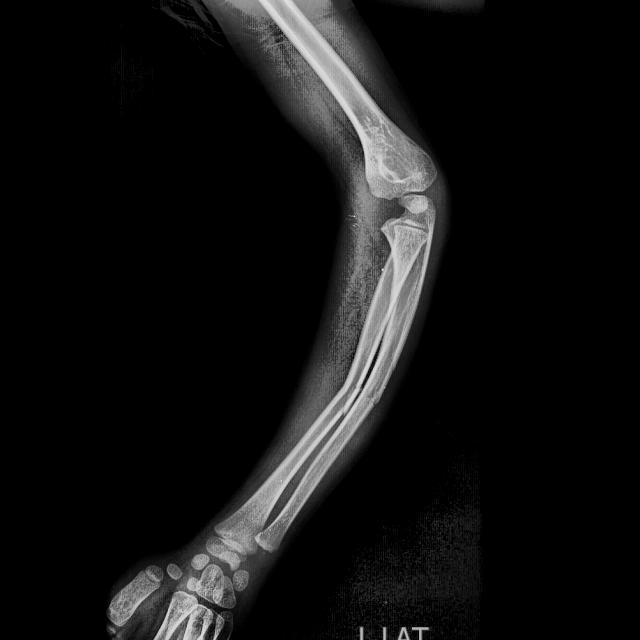fracture: (358, 380, 384, 410), (339, 376, 357, 416)
